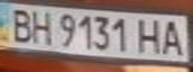1: (109, 15, 133, 53), (75, 11, 93, 51)
3: (90, 14, 112, 52)
9: (54, 10, 78, 48)
A: (157, 17, 190, 56)
B: (3, 6, 36, 44)
H: (133, 16, 166, 55), (27, 8, 57, 46)
